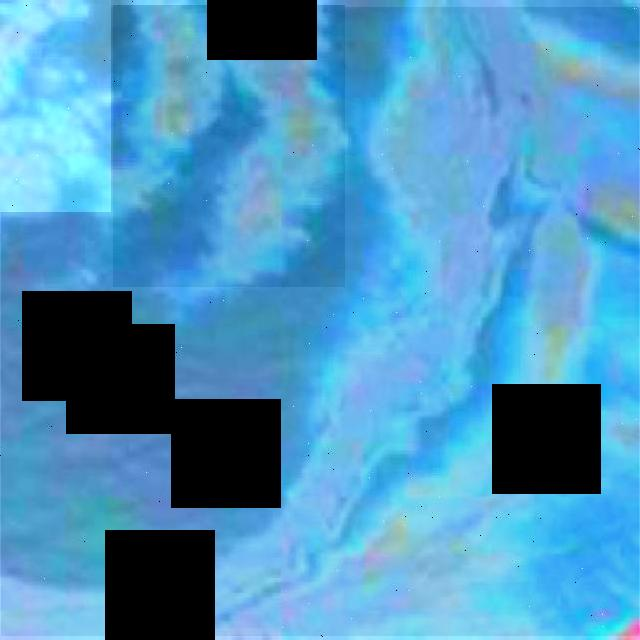oil_spillage: (2, 7, 639, 636), (113, 6, 345, 287), (0, 0, 111, 212)
